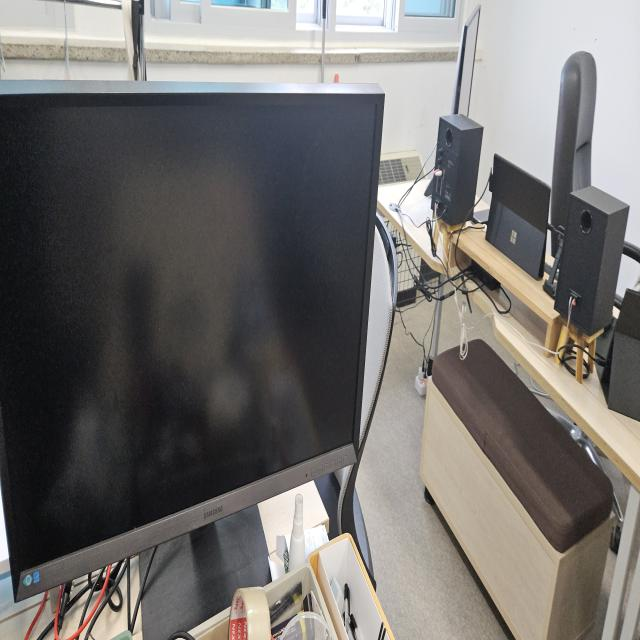Monitor: (1, 76, 386, 602)
